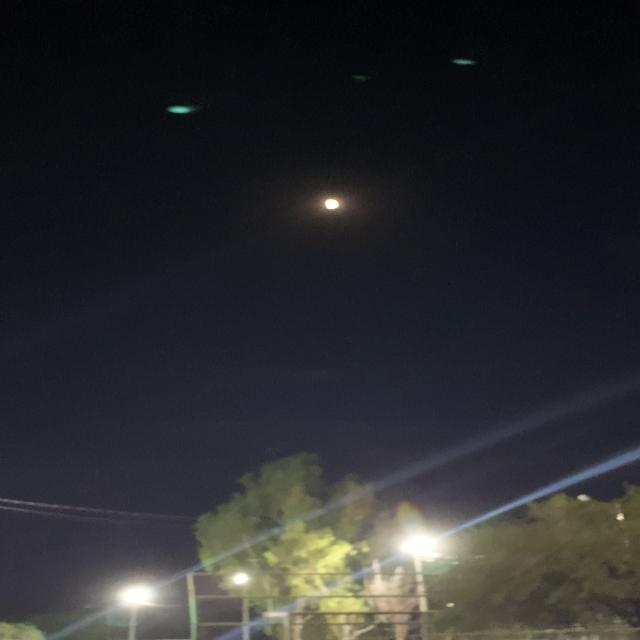moon: (304, 205, 360, 233)
